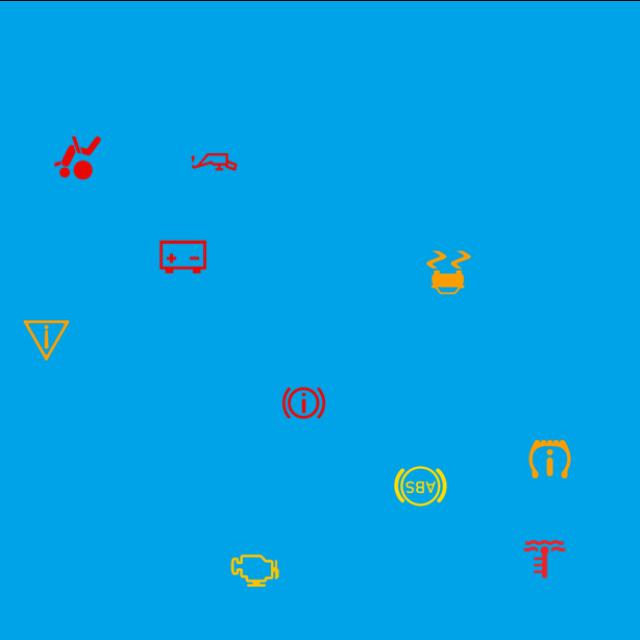Anti Lock Braking System: (392, 456, 449, 514)
Braking System Issue: (275, 373, 333, 431)
Charging System Issue: (154, 227, 212, 285)
Check Engine: (226, 540, 284, 598)
Electronic Stability Problem -ESP-: (420, 242, 478, 300)
Engine Overheating Warning Light: (516, 529, 574, 587)
Low Engine Oil Warning Light: (185, 132, 243, 190)
Low Tire Pressure Warning Light: (521, 429, 579, 487)
Master warning light: (18, 311, 76, 368)
SRS-Airbag: (48, 128, 106, 186)
